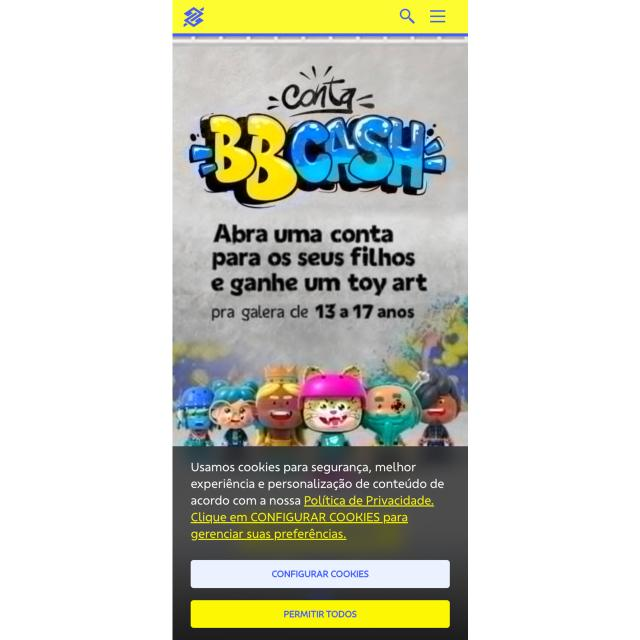CheckBox: (190, 559, 450, 590), (190, 600, 450, 630), (190, 511, 413, 542)
Input field: (189, 460, 446, 491)
card: (172, 34, 468, 446)
carousel: (396, 6, 419, 28), (430, 5, 448, 28)
data feed: (271, 566, 369, 580), (283, 607, 358, 620)
date picker: (180, 4, 208, 29)
decoration: (427, 3, 452, 27)
image: (183, 220, 447, 300)
